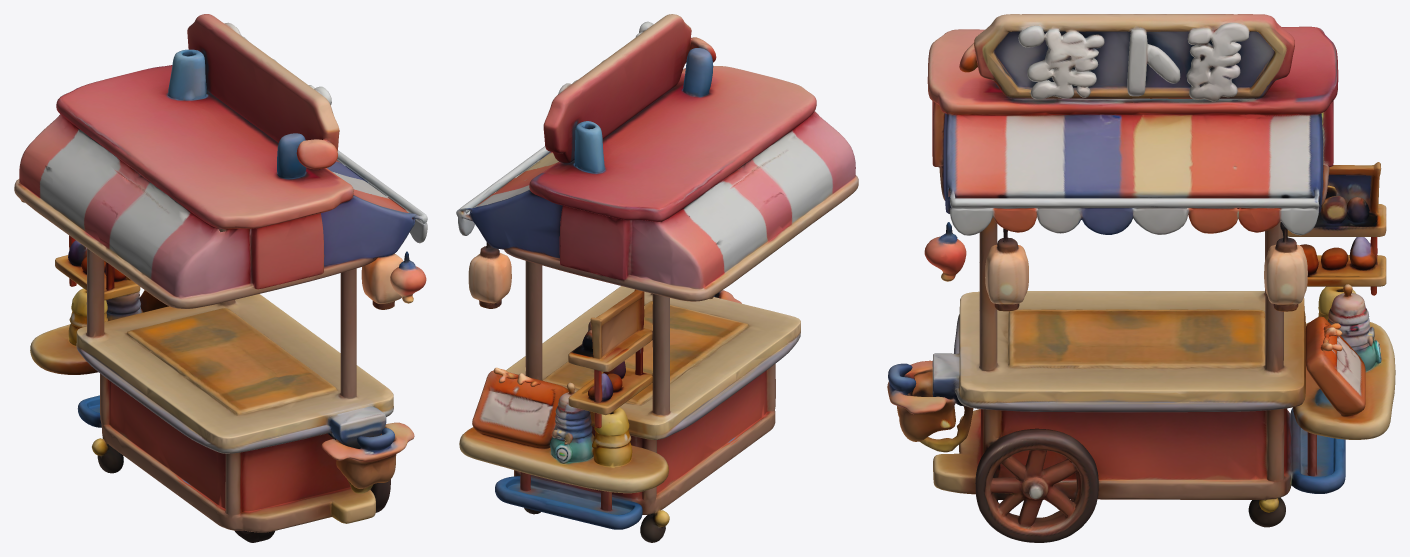
The model's file is plaza-stall-food.glb.
The picture shows the model from 3 angles, left to right: view 1: azimuth 30°, elevation 25°; view 2: azimuth 150°, elevation 25°; view 3: azimuth 270°, elevation 25°; orthographic projection. The views are drawn at different scales.
Parts seen in each view (by area): view 1: tripo_node_fe9d43cf-d7af-476f-b11c-485852d5643b; view 2: tripo_node_fe9d43cf-d7af-476f-b11c-485852d5643b; view 3: tripo_node_fe9d43cf-d7af-476f-b11c-485852d5643b.
Boxes of the visible parts, x1,y1,x2,y2 form: tripo_node_fe9d43cf-d7af-476f-b11c-485852d5643b: (14,14,427,542); tripo_node_fe9d43cf-d7af-476f-b11c-485852d5643b: (456,14,858,542); tripo_node_fe9d43cf-d7af-476f-b11c-485852d5643b: (887,14,1395,542).
Bounding box in the file's own units: 1.86 × 3 × 2.79.
1 material, 1 textured.
